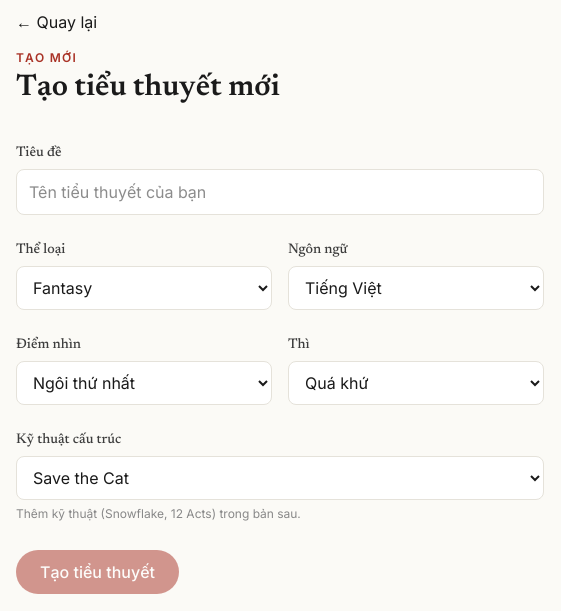
Test case: Novel form (trang tạo tiểu thuyết mới) › submit button enabled khi đã nhập title
Type "Tiểu thuyết thử nghiệm" into the field labelled "Tiêu đề" at point(280, 192), box x1=16 y1=169 x2=544 y2=215
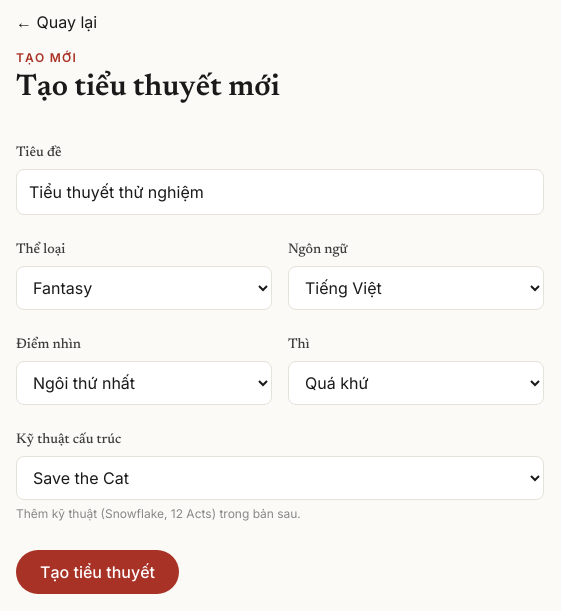
Check: the button "Tạo tiểu thuyết" is enabled, box x1=16 y1=550 x2=179 y2=594
